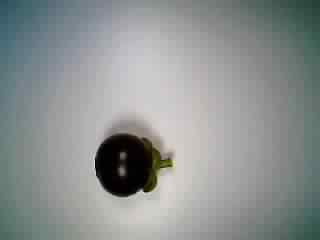mangosteen: (89, 129, 176, 202)
